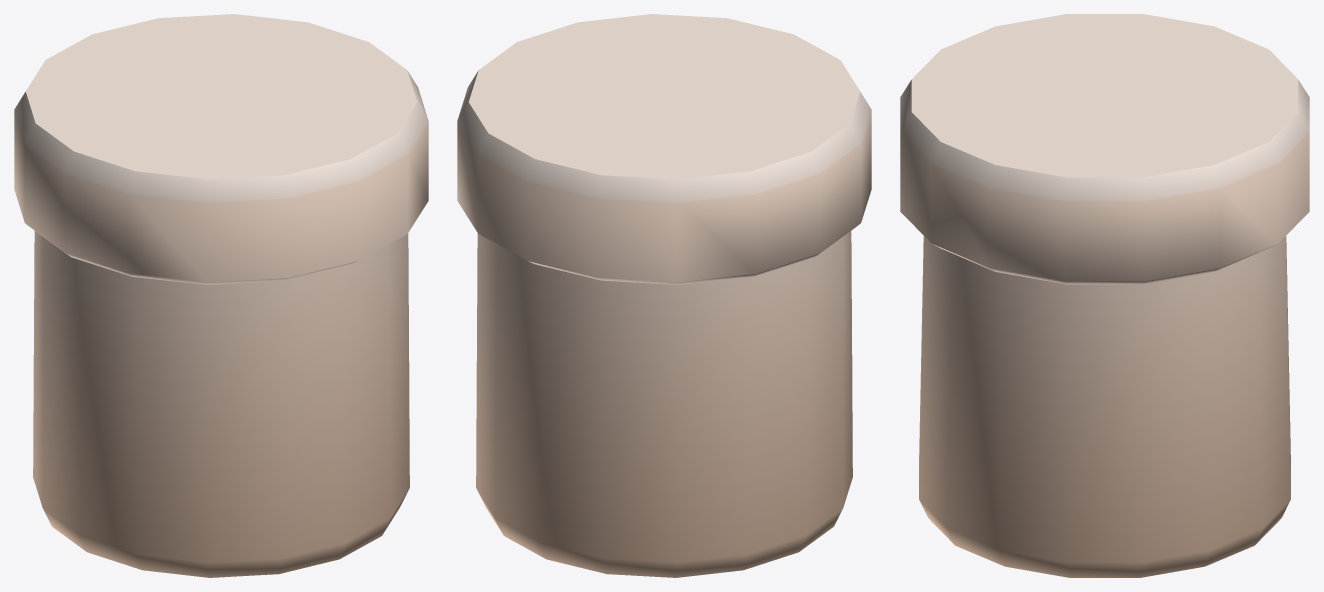
File: tin-a-beige.glb
3 renders of one model, left to right at view 1: azimuth 30°, elevation 25°; view 2: azimuth 150°, elevation 25°; view 3: azimuth 270°, elevation 25°, orthographic.
Visible parts, largest first — view 1: tin_A_beige; view 2: tin_A_beige; view 3: tin_A_beige.
Part boxes in pixels (x1,y1,x2,y2): tin_A_beige: (14,14,428,577); tin_A_beige: (457,14,871,577); tin_A_beige: (900,14,1309,577).
Size of the model in its own units: 0.4 by 0.4485 by 0.4.
1 material, 1 textured.
